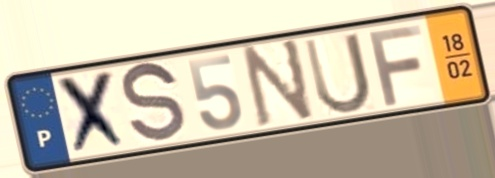5: (184, 52, 245, 133)
F: (364, 21, 425, 108)
N: (241, 35, 317, 131)
S: (119, 58, 189, 149)
U: (300, 29, 375, 118)
X: (54, 66, 134, 159)
